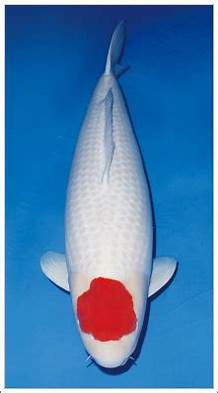sun: (40, 20, 178, 368)
